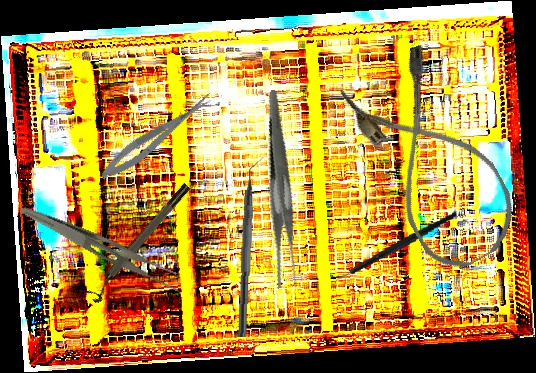Cannula: (336, 41, 531, 281)
Chopper: (324, 210, 465, 293), (237, 156, 266, 338)
Dressing Forceps: (225, 90, 341, 292), (12, 205, 189, 295)
Fixation Ring: (83, 181, 197, 305)
Micro Scissor: (94, 88, 220, 186)
